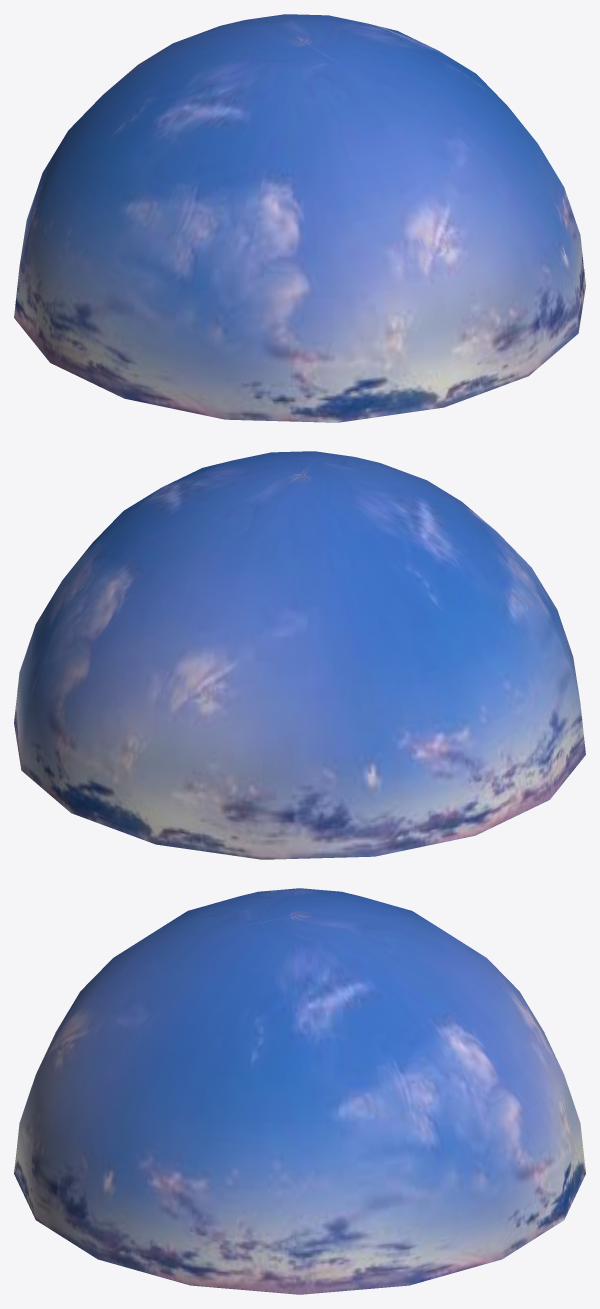
File: Sky.fbx
3 renders of one model, top to bottom at view 1: azimuth 30°, elevation 25°; view 2: azimuth 150°, elevation 25°; view 3: azimuth 270°, elevation 25°, orthographic.
Parts seen in each view (by area): view 1: pSphere1; view 2: pSphere1; view 3: pSphere1.
Part boxes in pixels (box(x1,y1,x2,y2)): pSphere1: box(14, 14, 585, 422); pSphere1: box(14, 451, 585, 859); pSphere1: box(14, 888, 585, 1294).
Bounding box in the file's own units: 500 × 250 × 500.
1 material, 1 textured.
